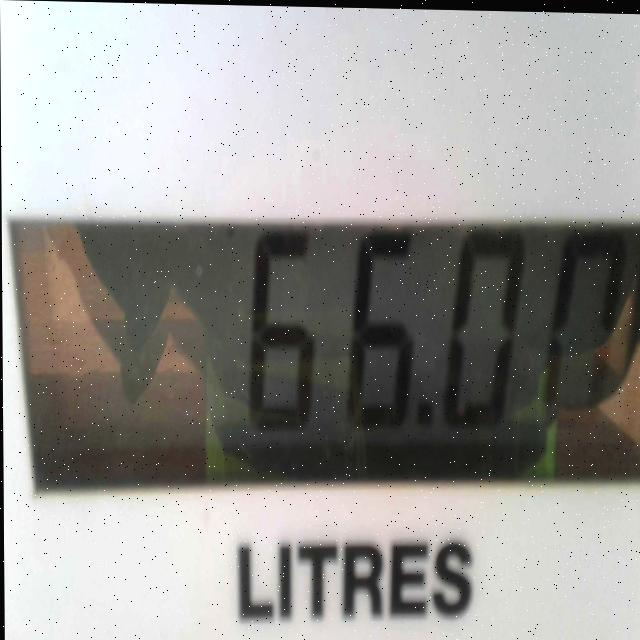.: (417, 393, 439, 436)
0: (436, 223, 531, 474), (545, 226, 620, 430)
6: (235, 230, 325, 450), (355, 237, 419, 446)
